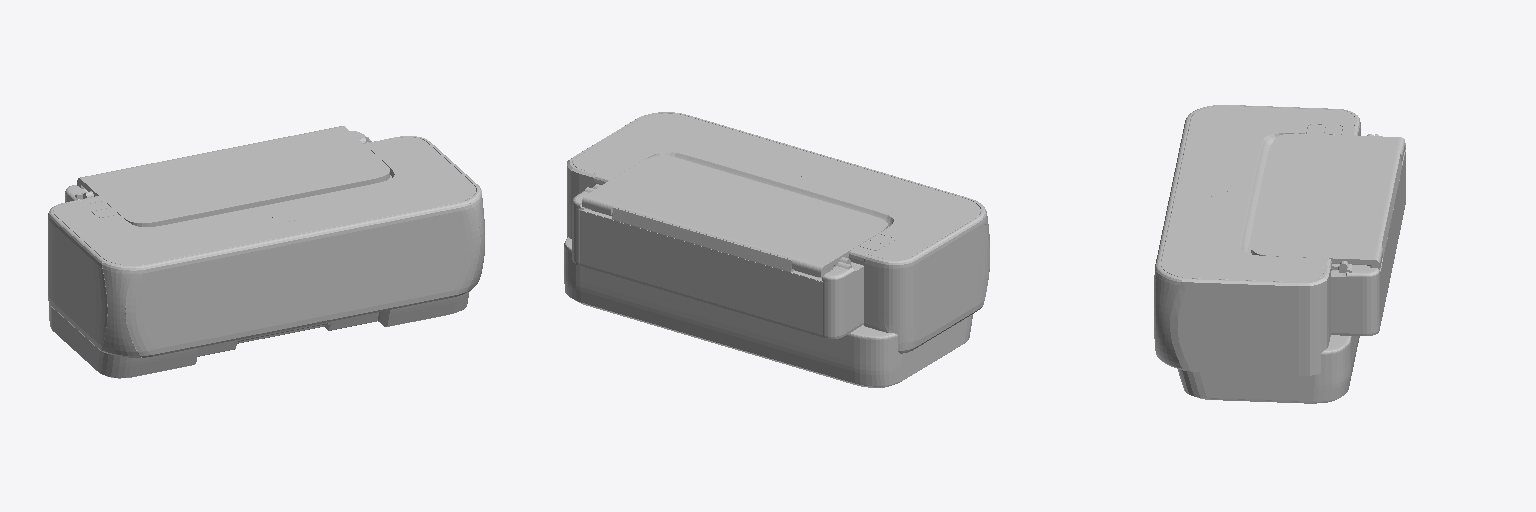
Rendered from Printer.obj.
3 views of the same model, side by side, from view 1: azimuth 30°, elevation 25°; view 2: azimuth 150°, elevation 25°; view 3: azimuth 270°, elevation 25° (orthographic).
Visible parts, largest first — view 1: Default; view 2: Default; view 3: Default.
Part boxes in pixels (x1,y1,x2,y2): Default: (48, 126, 484, 378); Default: (564, 112, 989, 387); Default: (1154, 105, 1405, 403).
Size of the model in its own units: 194 by 62.05 by 114.